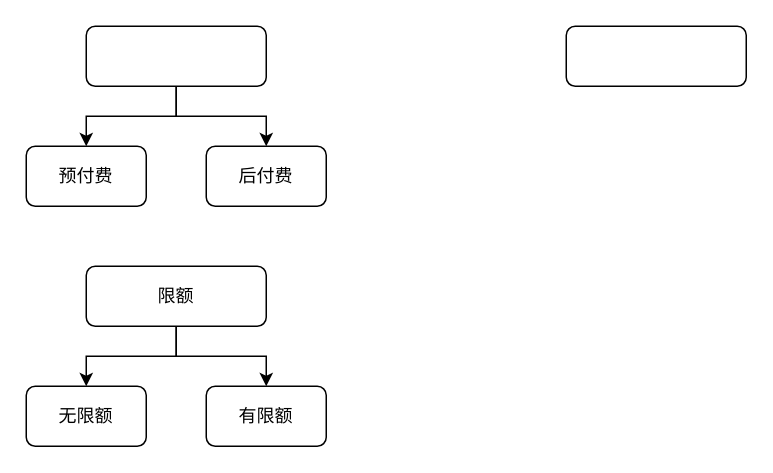
Image size: 773x473. Some labels were removed from this diagram. The centre of each missing label's shape, as x and y in pixels:
"费用支付" belongs at (175,55).
"限期" belongs at (655,55).
